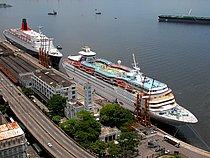Ship: (61, 47, 205, 135), (2, 16, 66, 63)
